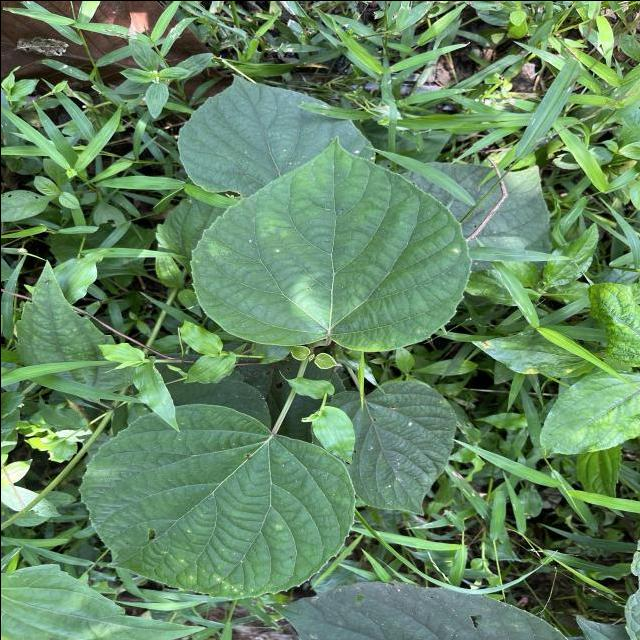Clerodendrum infortunatum: (192, 133, 474, 351), (80, 400, 358, 600), (176, 68, 378, 194), (310, 377, 459, 517)
